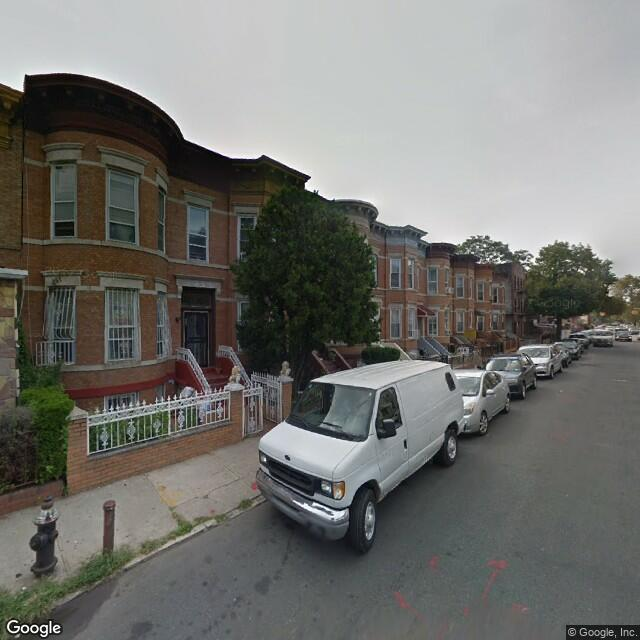litter: (556, 386, 566, 392), (21, 586, 25, 592)
